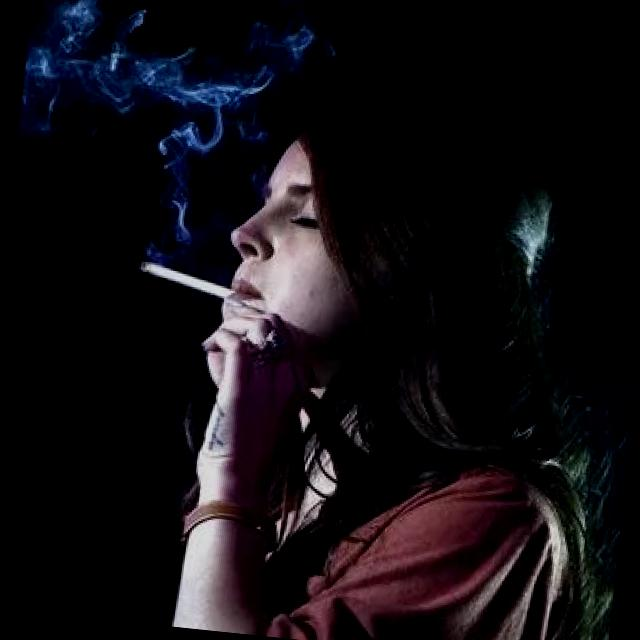cigarette: (132, 250, 262, 318)
